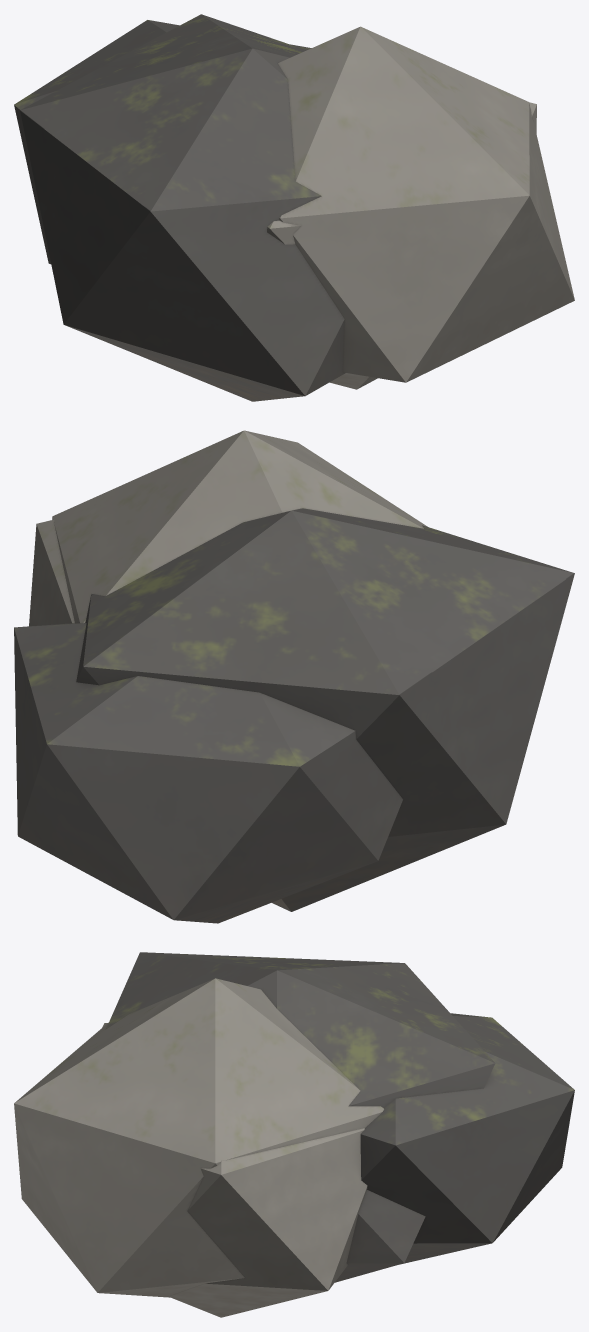
Rendered from rocha_grande.glb.
3 views of the same model, one above another, from view 1: azimuth 30°, elevation 25°; view 2: azimuth 150°, elevation 25°; view 3: azimuth 270°, elevation 25° (orthographic). The views are drawn at different scales.
Parts seen in each view (by area): view 1: rocha_grande; view 2: rocha_grande; view 3: rocha_grande.
Part boxes in pixels (box(x1,y1,x2,y2)): rocha_grande: box(14, 14, 574, 401); rocha_grande: box(14, 430, 574, 923); rocha_grande: box(14, 952, 574, 1317).
Bounding box in the file's own units: 1.43 × 1.17 × 1.68.
1 material, 1 textured.
